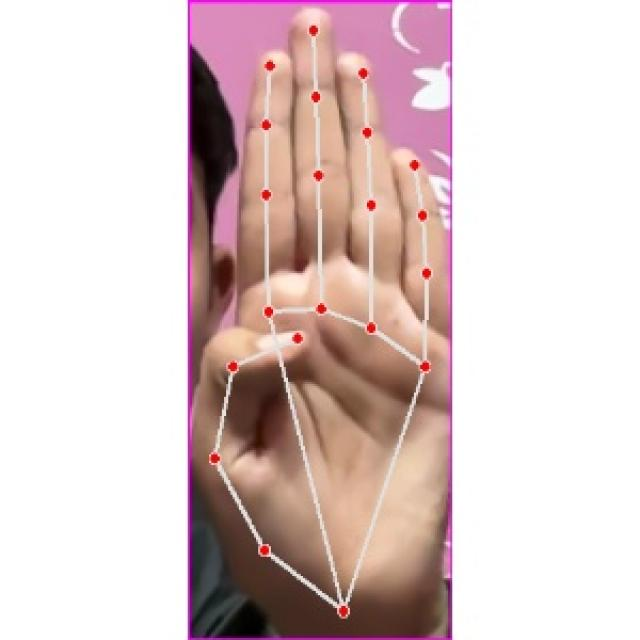B: (197, 0, 449, 639)
